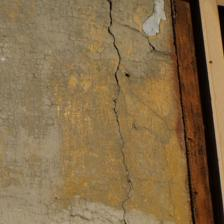Crack: (26, 32, 111, 144), (14, 0, 48, 46), (9, 201, 47, 224)
